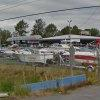Boat: (6, 33, 97, 66)
